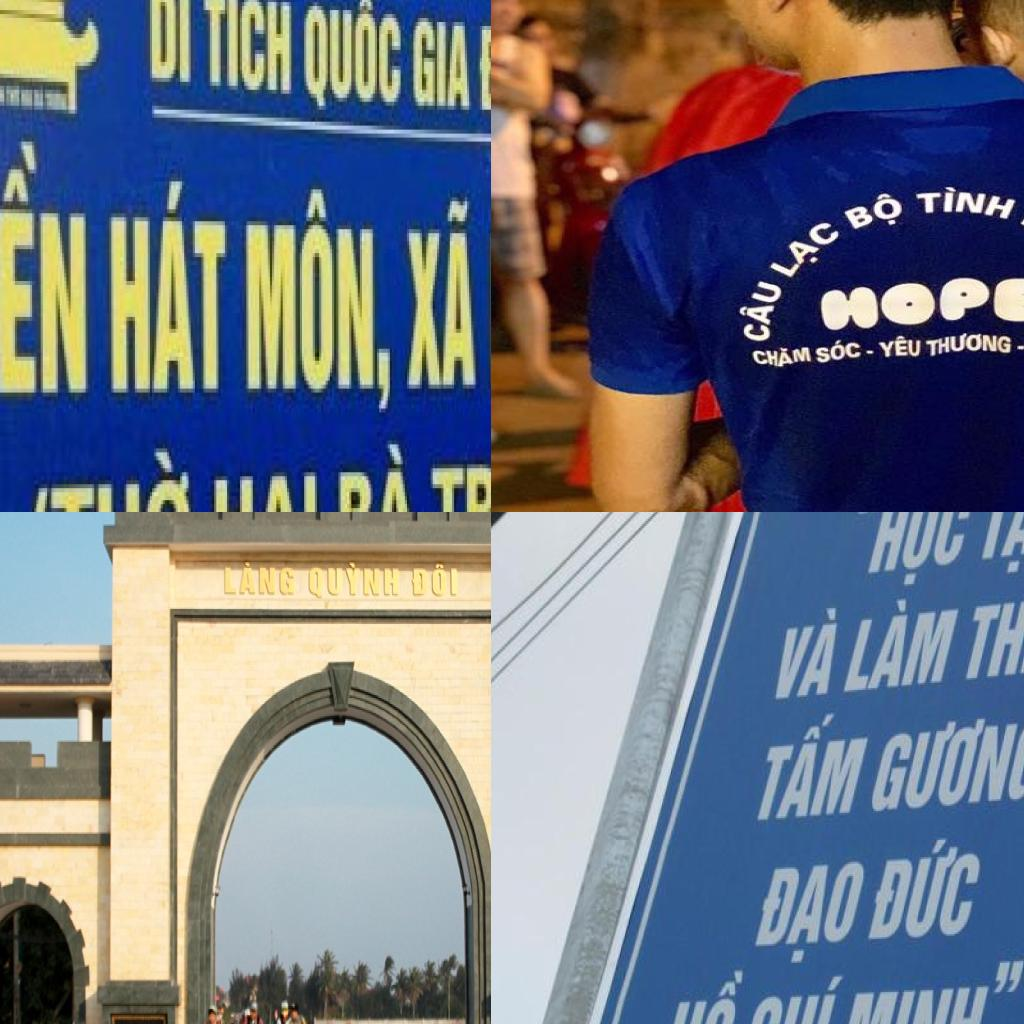text: (236, 178, 396, 412), (107, 166, 229, 404), (0, 133, 89, 404), (865, 710, 1024, 816), (858, 837, 993, 961), (401, 194, 482, 396), (740, 855, 876, 970), (748, 709, 880, 823), (837, 596, 967, 698), (300, 0, 405, 121), (23, 440, 199, 512), (814, 277, 1024, 333), (839, 512, 977, 590), (203, 0, 297, 105), (766, 603, 852, 703), (956, 589, 1024, 683), (334, 440, 422, 512), (653, 966, 762, 1024), (414, 14, 474, 114), (766, 212, 850, 283), (738, 971, 850, 1024), (211, 464, 321, 512), (143, 0, 197, 89), (909, 184, 1023, 226), (732, 274, 792, 347), (835, 187, 912, 238), (306, 562, 403, 601), (971, 512, 1024, 579), (221, 558, 297, 598), (923, 333, 1024, 359), (473, 0, 491, 137), (814, 336, 879, 366), (410, 559, 461, 597), (745, 346, 814, 369), (876, 335, 922, 360)
